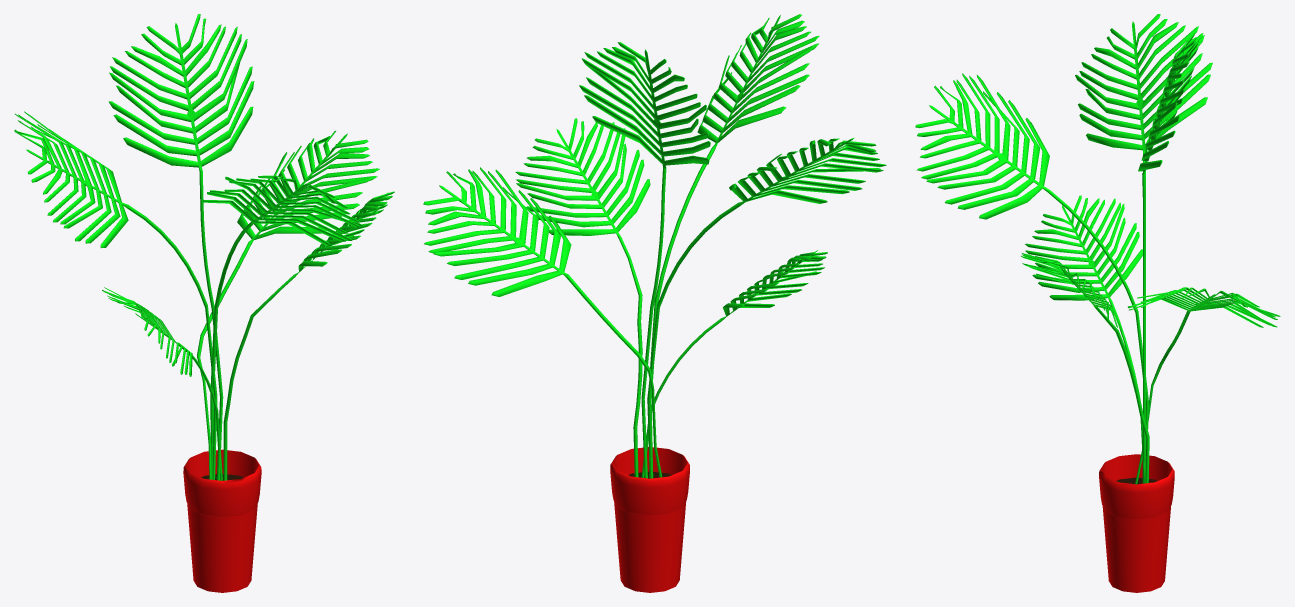
The model's file is A_AH_PlantInPot_002.fbx.
The picture shows the model from 3 angles, left to right: view 1: azimuth 30°, elevation 25°; view 2: azimuth 150°, elevation 25°; view 3: azimuth 270°, elevation 25°; orthographic projection. The views are drawn at different scales.
Visible parts, largest first — view 1: plant; view 2: plant; view 3: plant.
Boxes of the visible parts, x1,y1,x2,y2 form: plant: [14, 14, 394, 592]; plant: [423, 14, 886, 592]; plant: [915, 14, 1280, 592].
Bounding box in the file's own units: 121 × 166 × 104.
